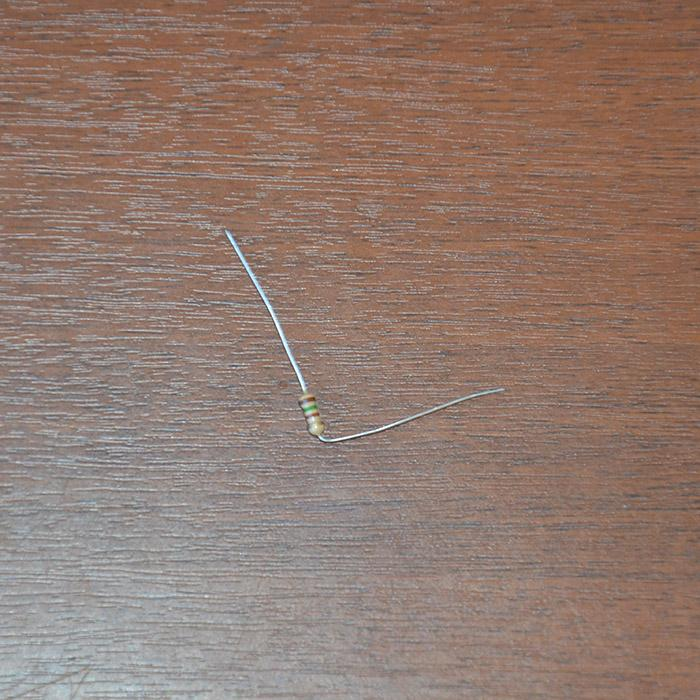resistor: (297, 391, 325, 436)
